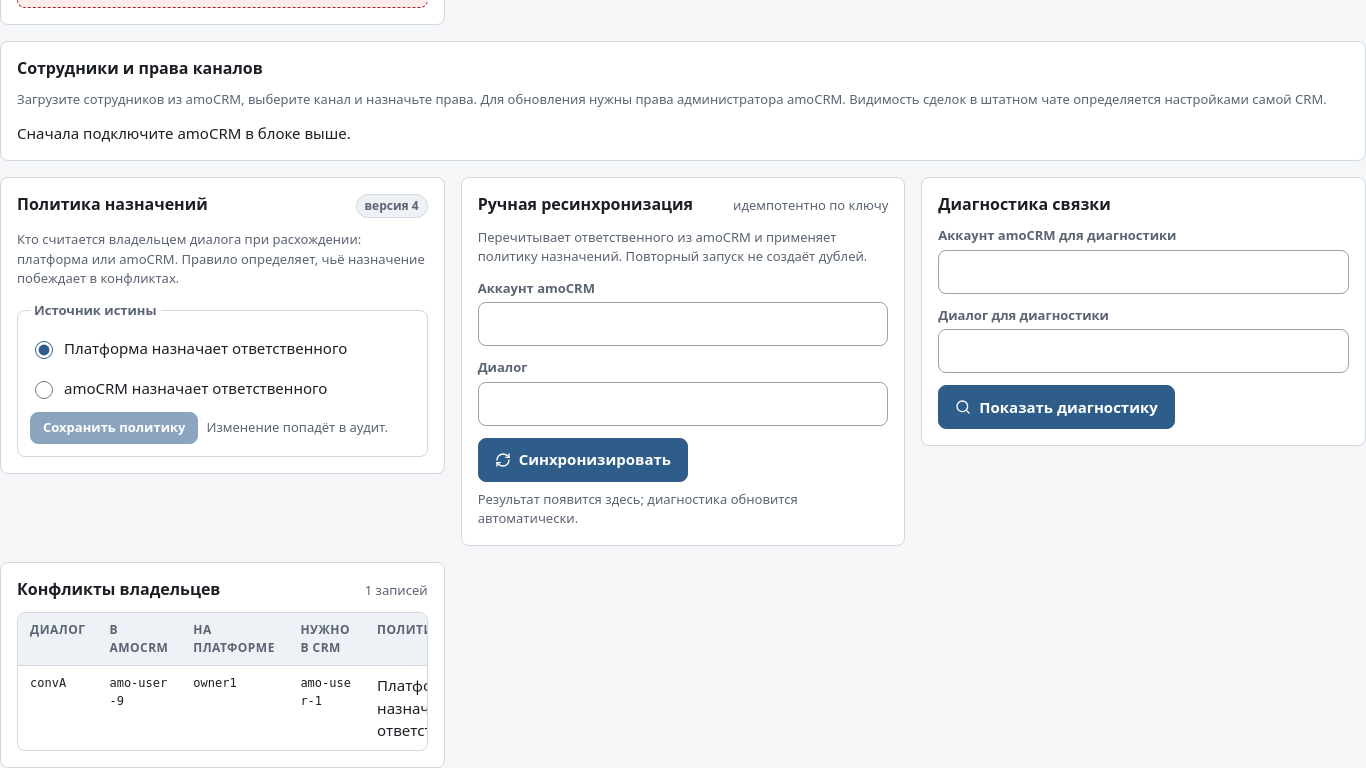
Test: страница CRM › меняет политику с ожидаемой версией для admin
(page scrolled)
What coordinates should you click on to do the following:
click the radio button labelled "amoCRM назначает ответственного"
I would click on:
 (44, 390)
Its box is [35,380,53,398].
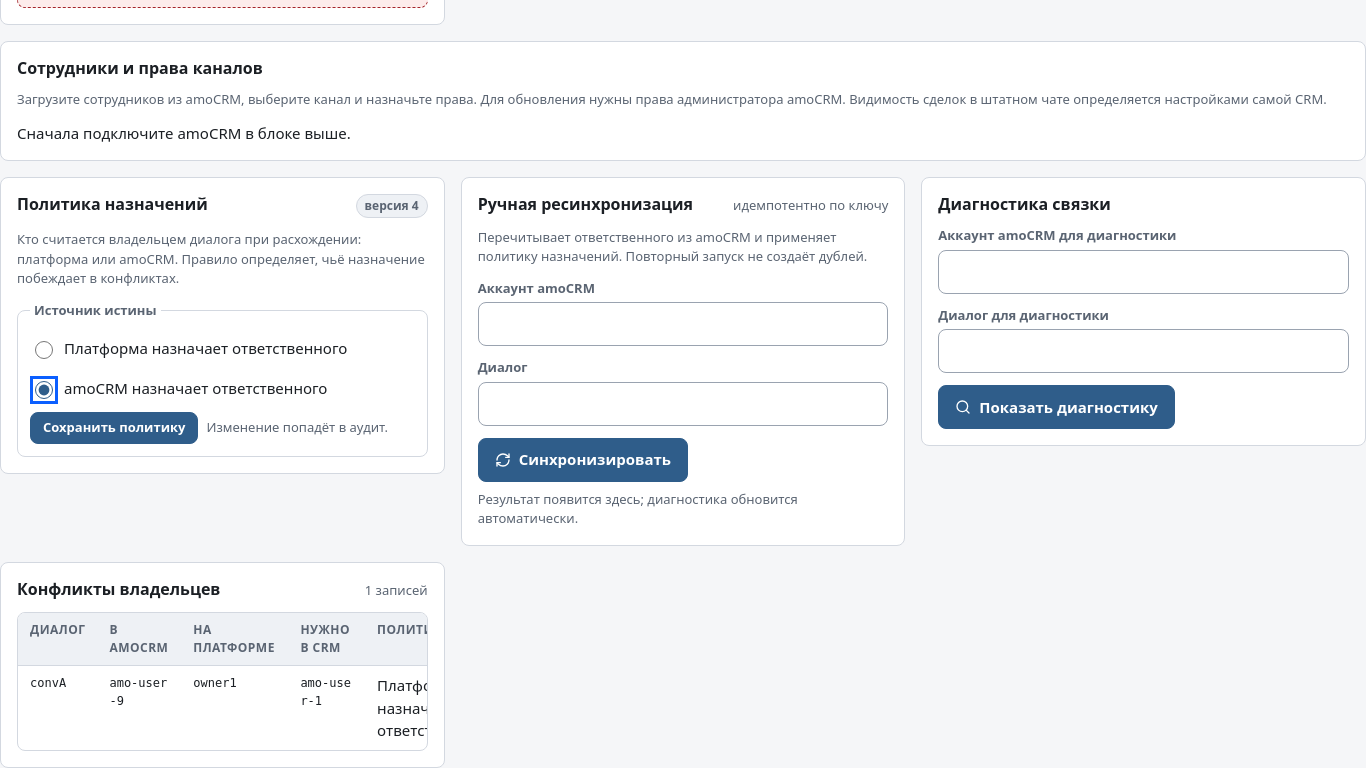
What coordinates should you click on to do the following:
click the button "Сохранить политику"
I would click on:
 (114, 428)
Its box is [30,412,198,444].
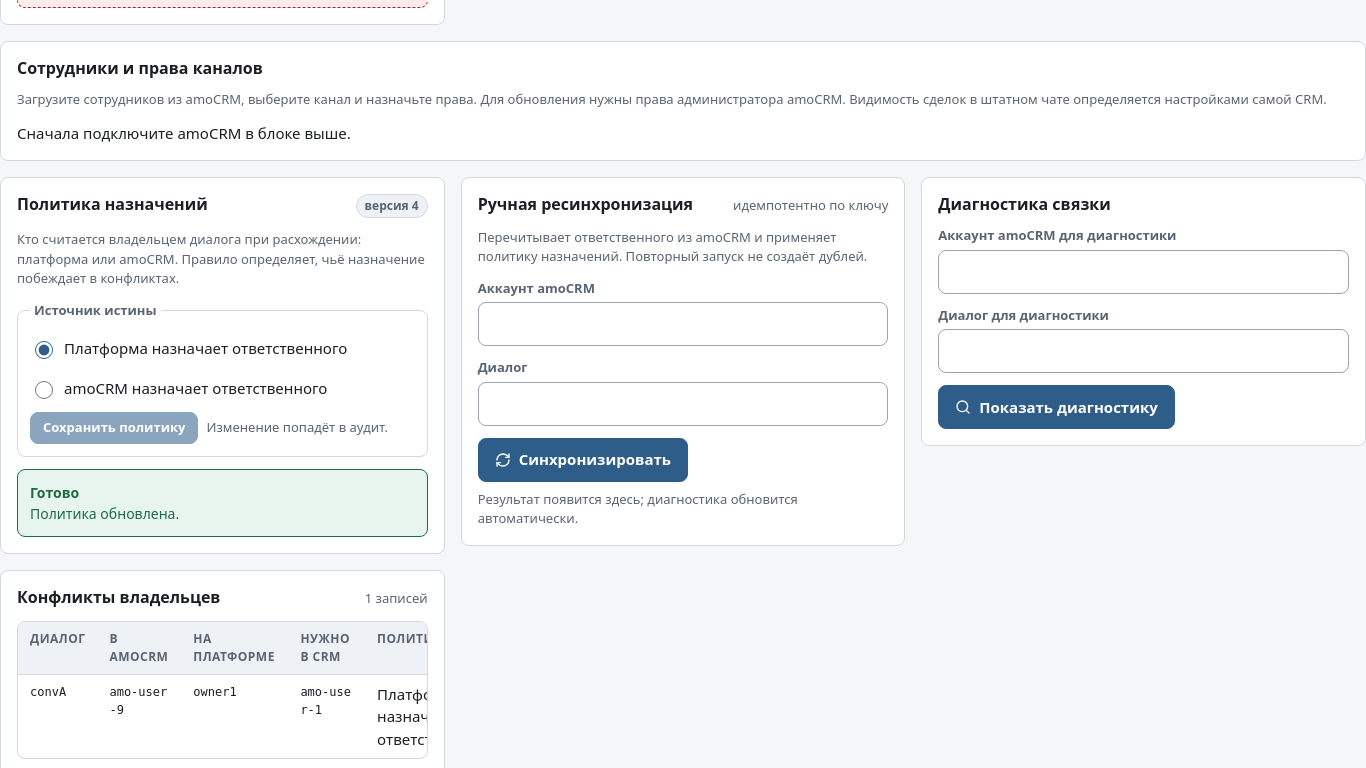
Now the text "Политика обновлена." is shown, box [30,504,179,523]
